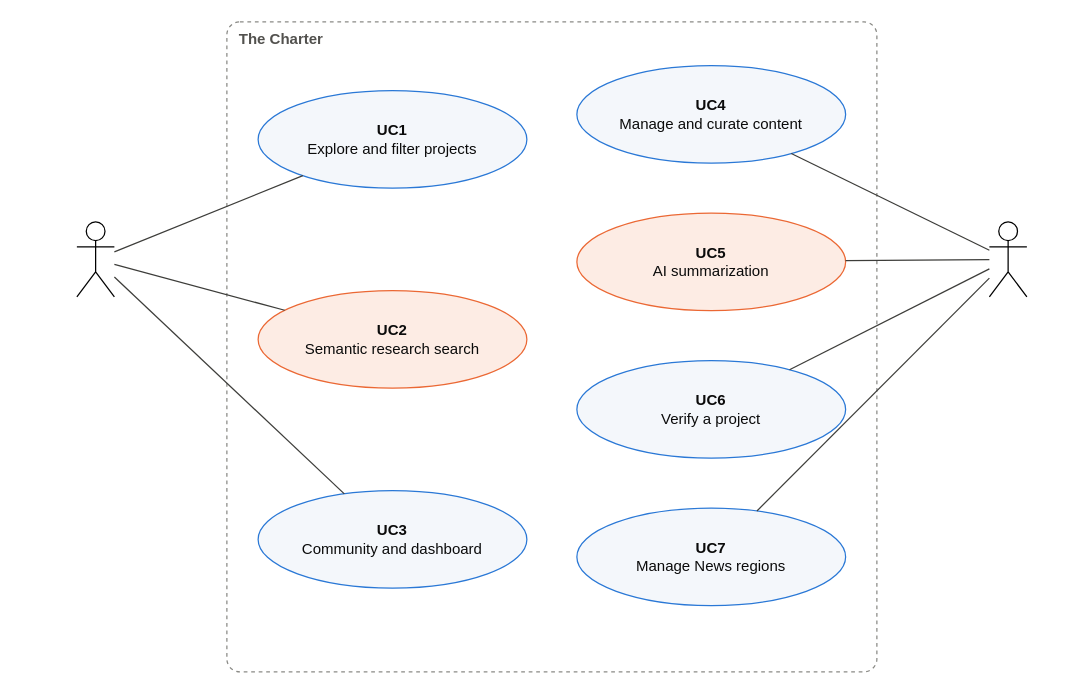
This 1085x694 diagram has some shape labels left out. Here are the shapes that lost their labels. From the top down, the box of each, then its label:
(76, 221, 114, 297): End user (student, researcher)
(988, 221, 1027, 297): Administrator (curator, editor)
